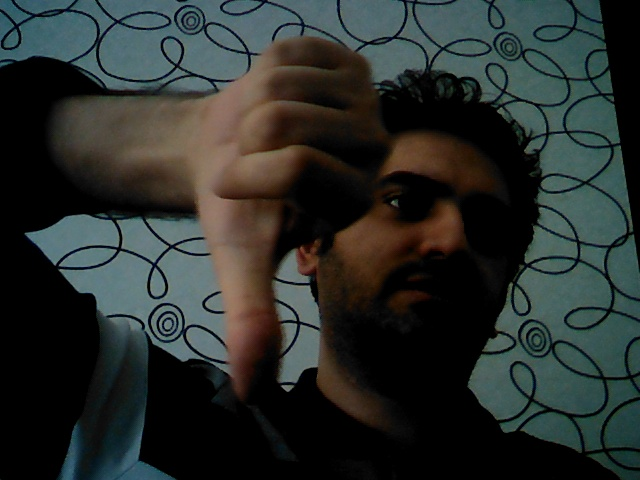ThumbsDown: (183, 36, 393, 408)
